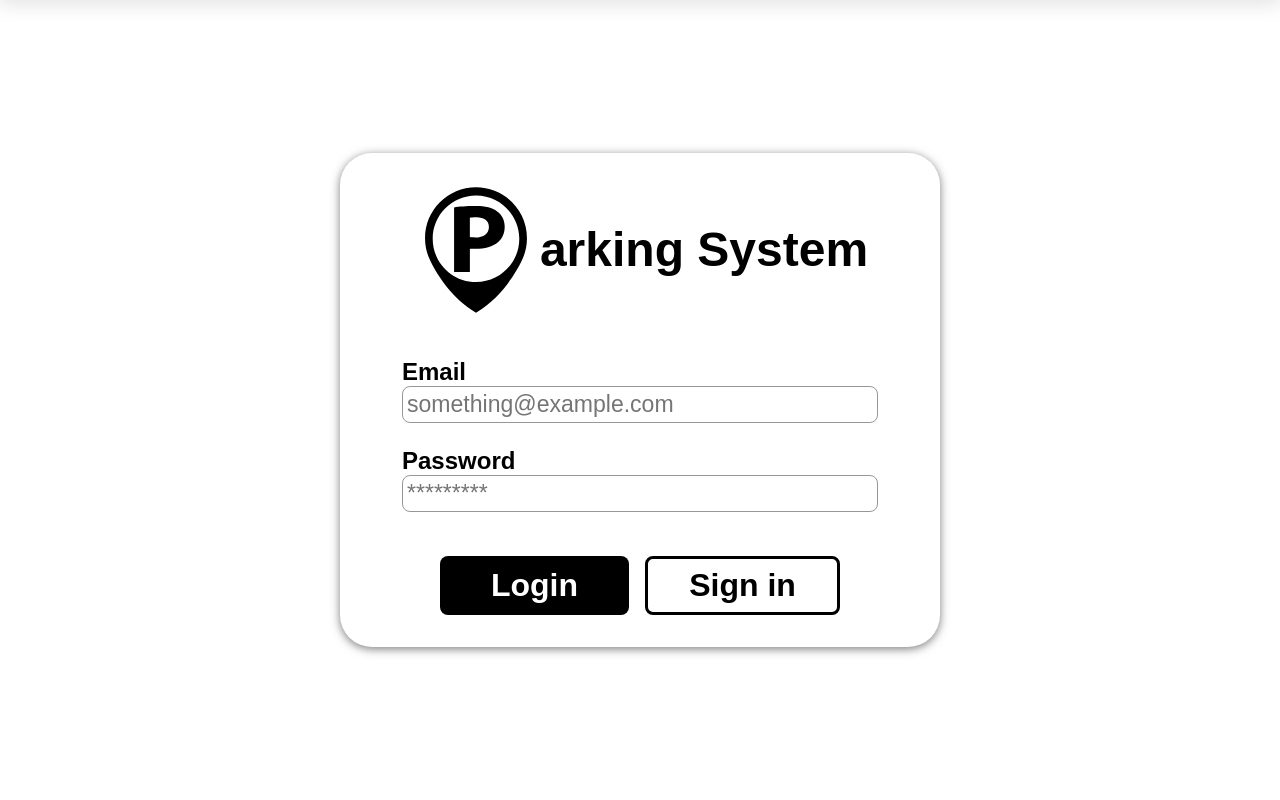
Test: Login Test › Can switch to sign in form
// switch to signin
Click the button named "switch" at (743, 586), box [645,556,840,615]
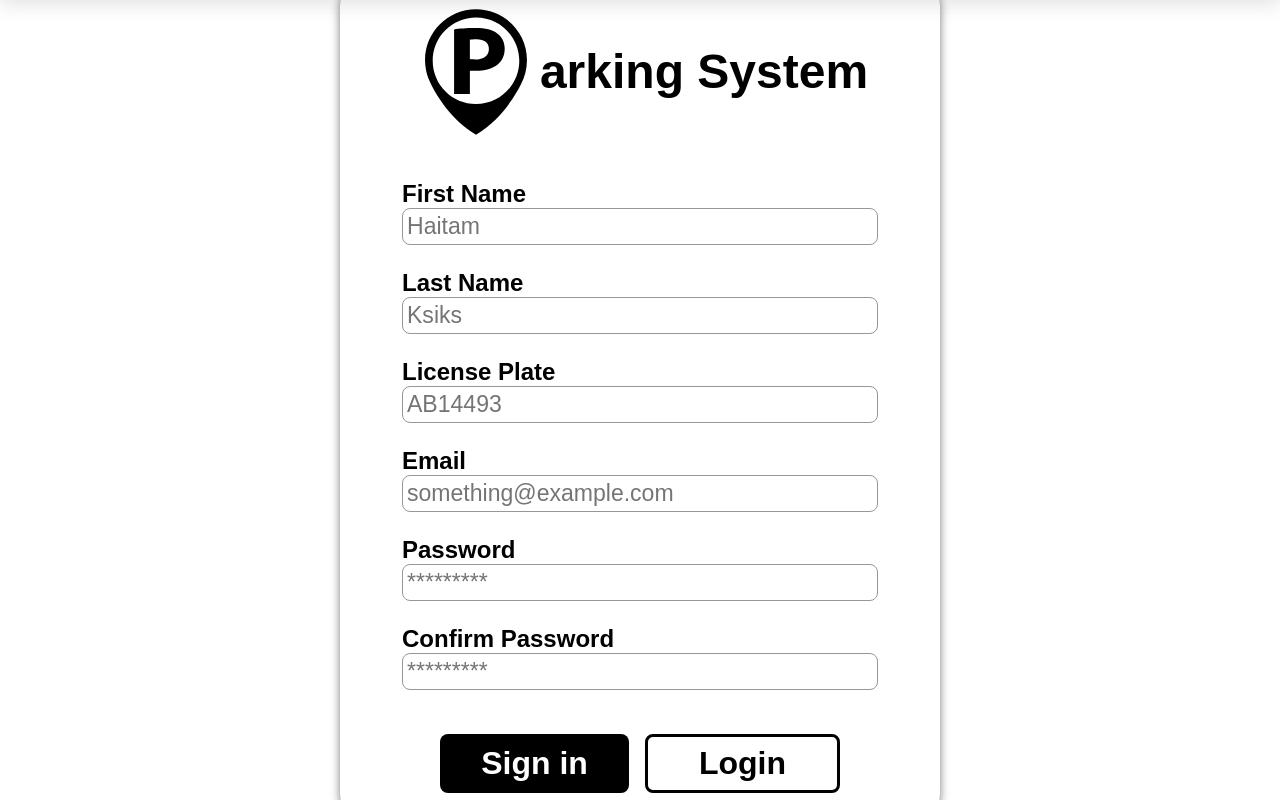
Check: the text "Confirm Password" is shown, box [402,625,614,652]
